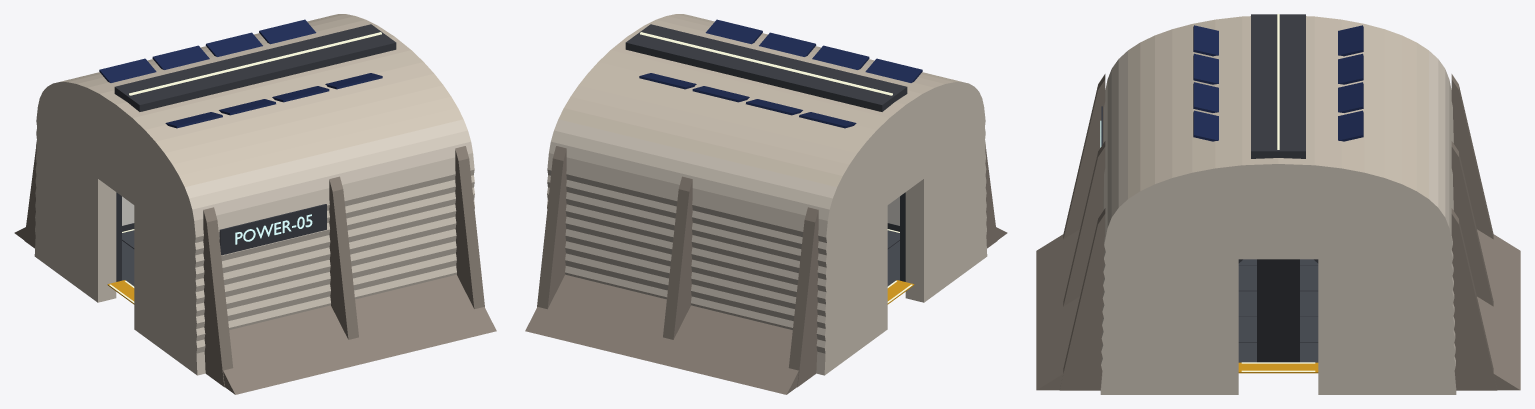
Rendered from Energy.fbx.
The picture shows the model from 3 angles, left to right: view 1: azimuth 30°, elevation 25°; view 2: azimuth 150°, elevation 25°; view 3: azimuth 270°, elevation 25°; orthographic projection. The views are drawn at different scales.
Visible parts, largest first — view 1: Energy solid, Energy trim; view 2: Energy solid, Energy trim; view 3: Energy solid, Energy trim.
Part boxes in pixels (x1,y1,x2,y2): Energy solid: [14, 14, 496, 394]; Energy trim: [99, 19, 396, 304]; Energy solid: [525, 14, 1007, 394]; Energy trim: [625, 19, 922, 304]; Energy solid: [1036, 16, 1520, 394]; Energy trim: [1100, 14, 1363, 373].
Size of the model in its own units: 5.76 by 4.32 by 7.92.
